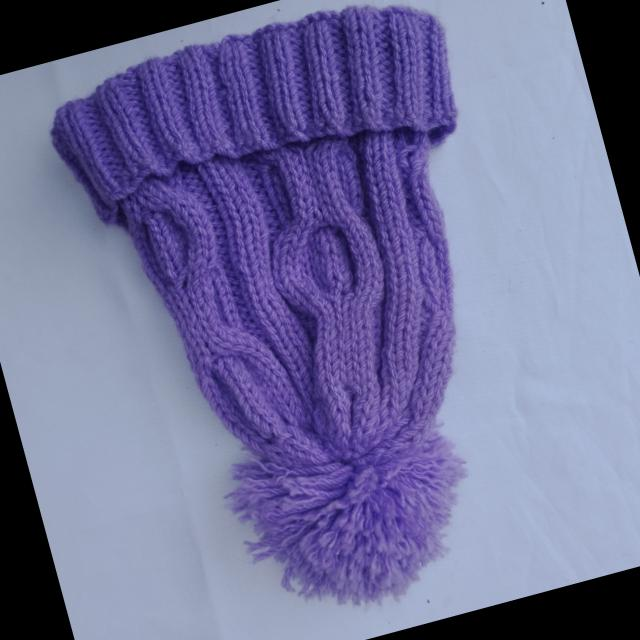Gorro: (36, 0, 584, 640)
